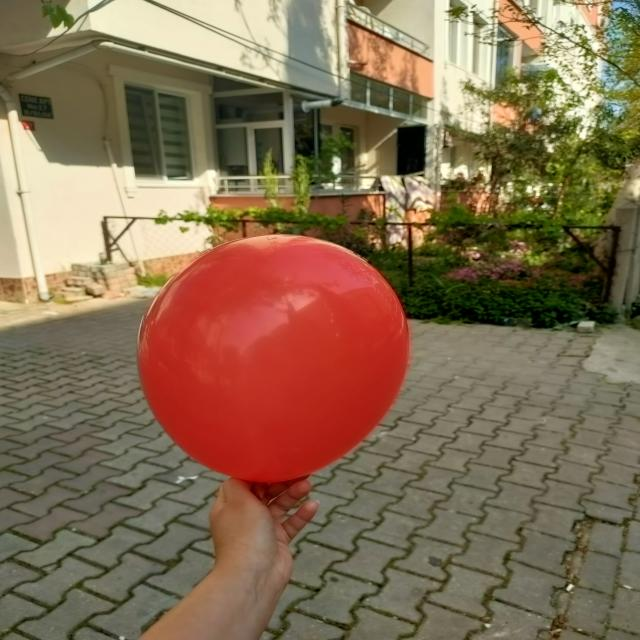red: (140, 235, 412, 482)
